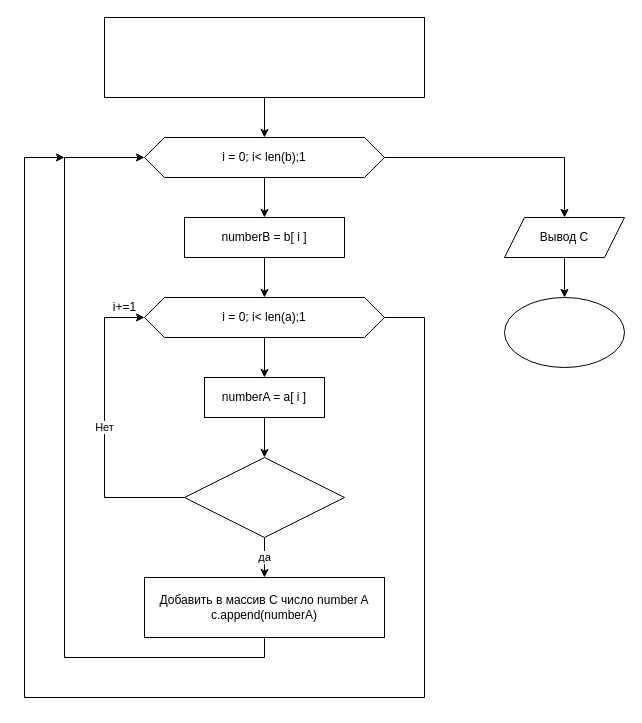
This 642x723 diagram has some shape labels left out. Each missing label, with the box of its shape:
a = [1,1,2,3,5,8,13,21,34,55,89] b = [1,2,3,4,5,6,7,8,9,10,11,12,13] c = [ ]: (104, 16, 424, 98)
numberA == numberB ?: (184, 456, 344, 538)
конец: (504, 296, 624, 368)
